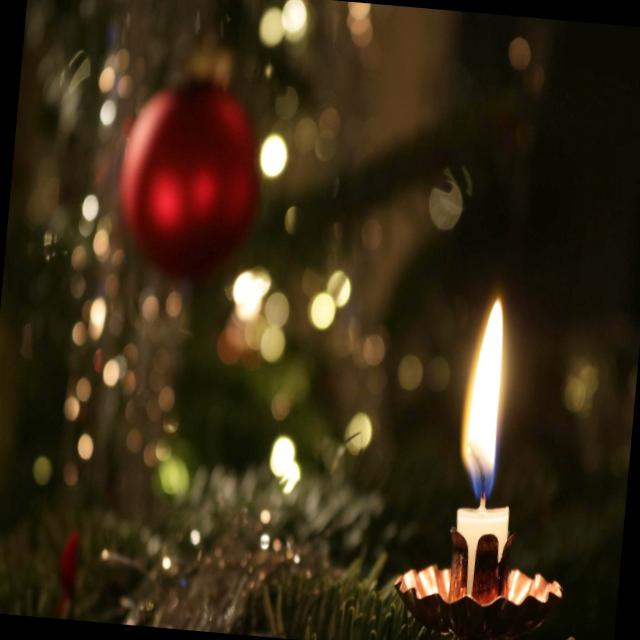Fire_Save: (388, 287, 588, 640)
